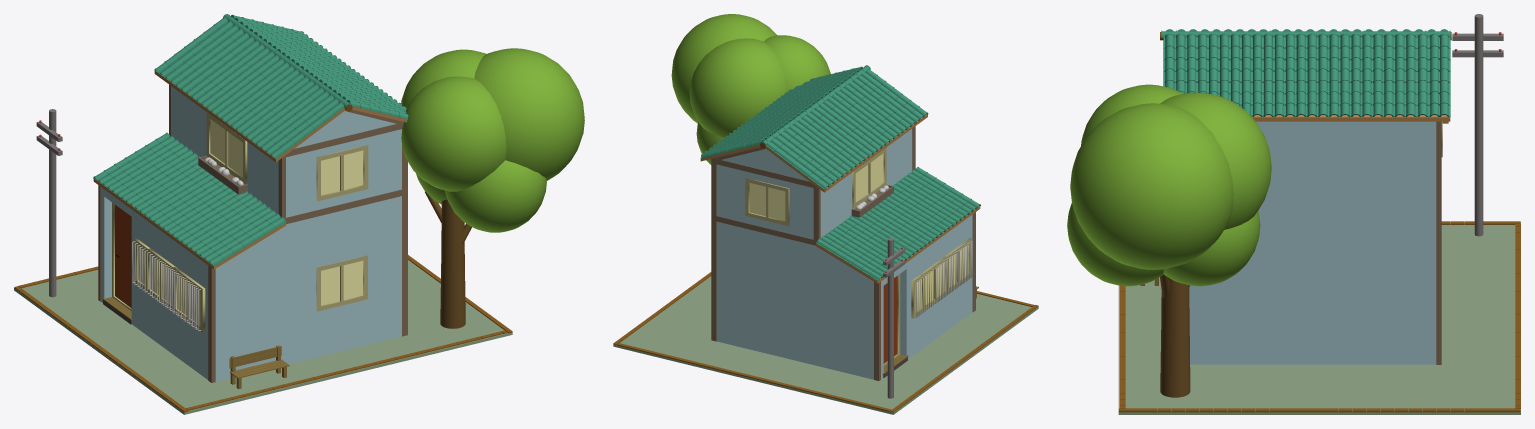
The model's file is cartoon_game_home_house_building.glb.
3 renders of one model, left to right at view 1: azimuth 30°, elevation 25°; view 2: azimuth 150°, elevation 25°; view 3: azimuth 270°, elevation 25°, orthographic. The views are drawn at different scales.
Visible parts, largest first — view 1: Line001, Box004, Sphere002, Sphere003, Sphere004, Shape001, Cone007, Sphere001, Shape006_04 - Default_0, Shape017_14 - Polished Aluminum_0, Shape005_05 - Default_0, Cone001 (+12 smaller); view 2: Line001, Box004, Sphere001, Sphere002, Shape001, Sphere003, Shape006_04 - Default_0, Cone001, Shape015_05 - Default_0, Line003, Shape014_04 - Default_0, Shape013_05 - Default_0 (+9 smaller); view 3: Line001, Box004, Sphere002, Sphere001, Cone007, Sphere005, Sphere004, Cone001, Sphere003, Shape001, Line003.
Boxes of the visible parts, box(x1,y1,x2,y2) form: Line001: box(101, 86, 401, 381); Box004: box(14, 260, 512, 414); Sphere002: box(474, 48, 584, 180); Sphere003: box(401, 76, 506, 191); Sphere004: box(445, 160, 546, 232); Shape001: box(98, 84, 407, 382); Cone007: box(440, 199, 465, 328); Sphere001: box(401, 49, 486, 107); Shape006_04 - Default_0: box(134, 238, 205, 332); Shape017_14 - Polished Aluminum_0: box(115, 205, 131, 307); Shape005_05 - Default_0: box(321, 260, 363, 305); Cone001: box(49, 109, 56, 297); Line001: box(716, 129, 972, 379); Box004: box(613, 276, 1038, 414); Sphere001: box(689, 38, 786, 137); Sphere002: box(671, 14, 777, 122); Shape001: box(711, 126, 975, 380); Sphere003: box(764, 35, 830, 92); Shape006_04 - Default_0: box(911, 238, 971, 318); Cone001: box(887, 238, 893, 398); Shape015_05 - Default_0: box(749, 183, 785, 220); Line003: box(700, 114, 927, 192); Shape014_04 - Default_0: box(745, 178, 789, 226); Shape013_05 - Default_0: box(855, 153, 883, 202); Line001: box(1189, 121, 1436, 364); Box004: box(1118, 222, 1520, 414); Sphere002: box(1070, 103, 1233, 269); Sphere001: box(1160, 92, 1271, 229); Cone007: box(1160, 277, 1190, 397); Sphere005: box(1163, 211, 1260, 286); Sphere004: box(1067, 203, 1163, 286); Cone001: box(1474, 14, 1483, 236); Sphere003: box(1081, 84, 1182, 145); Shape001: box(1436, 121, 1441, 364); Line003: box(1252, 115, 1450, 121).
Size of the model in its own units: 10.38 by 6.48 by 8.5.
